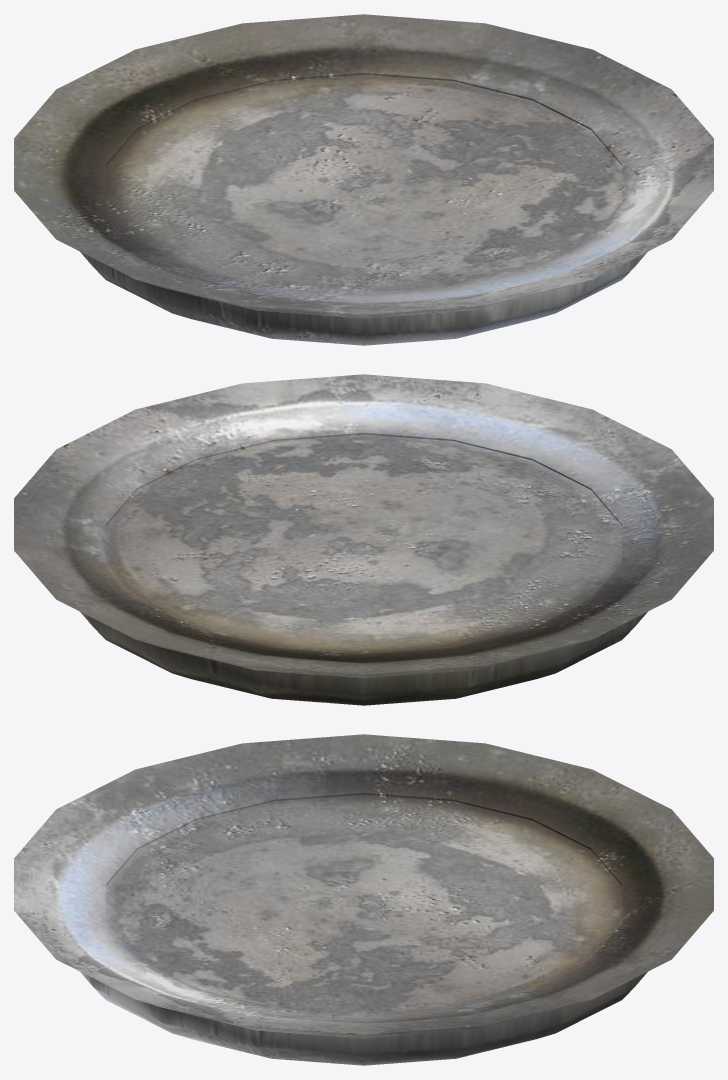
Rendered from Dish.FBX.
The picture shows the model from 3 angles, top to bottom: view 1: azimuth 30°, elevation 25°; view 2: azimuth 150°, elevation 25°; view 3: azimuth 270°, elevation 25°; orthographic projection.
Visible parts, largest first — view 1: Dish; view 2: Dish; view 3: Dish.
Part boxes in pixels (bbox=[...]): Dish: bbox=[14, 14, 713, 345]; Dish: bbox=[14, 374, 713, 705]; Dish: bbox=[14, 734, 713, 1065].
Size of the model in its own units: 39.16 by 4.09 by 38.56.
Materials: 1 (1 with a texture image).
